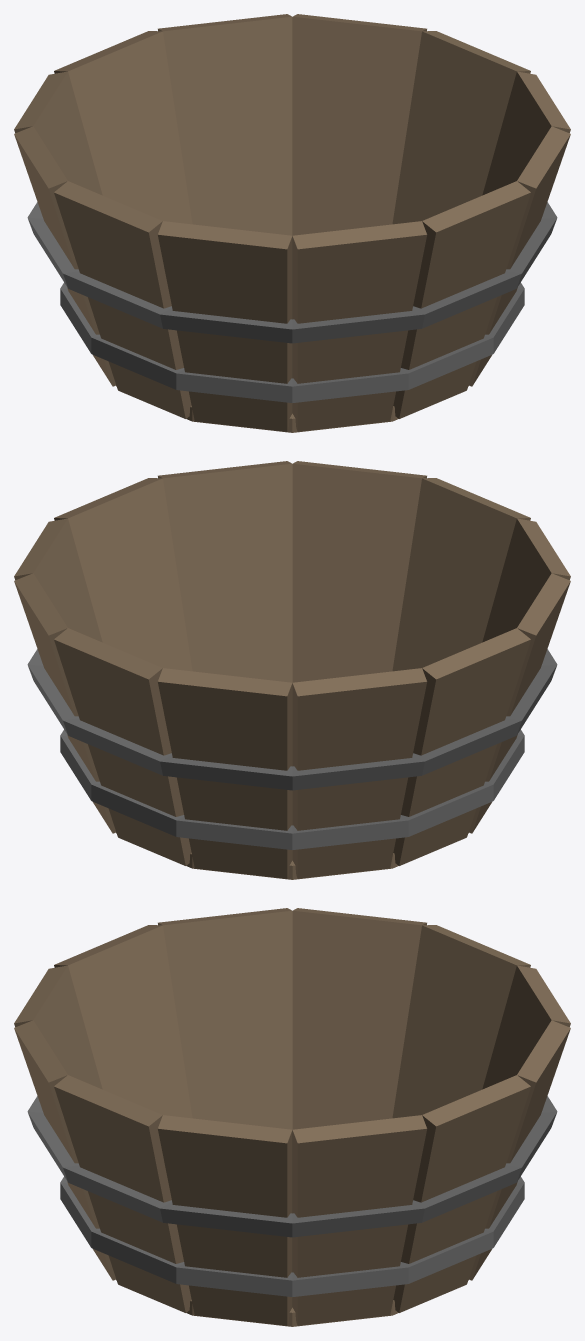
Rendered from wooden_tub.FBX.
3 renders of one model, top to bottom at view 1: azimuth 30°, elevation 25°; view 2: azimuth 150°, elevation 25°; view 3: azimuth 270°, elevation 25°, orthographic.
Parts seen in each view (by area): view 1: wooden_tub; view 2: wooden_tub; view 3: wooden_tub.
Boxes of the visible parts, x1=… form: wooden_tub: x1=14, y1=14, x2=570, y2=432; wooden_tub: x1=14, y1=461, x2=570, y2=879; wooden_tub: x1=14, y1=908, x2=570, y2=1326.
Bounding box in the file's own units: 1.33 × 0.5862 × 1.33.
